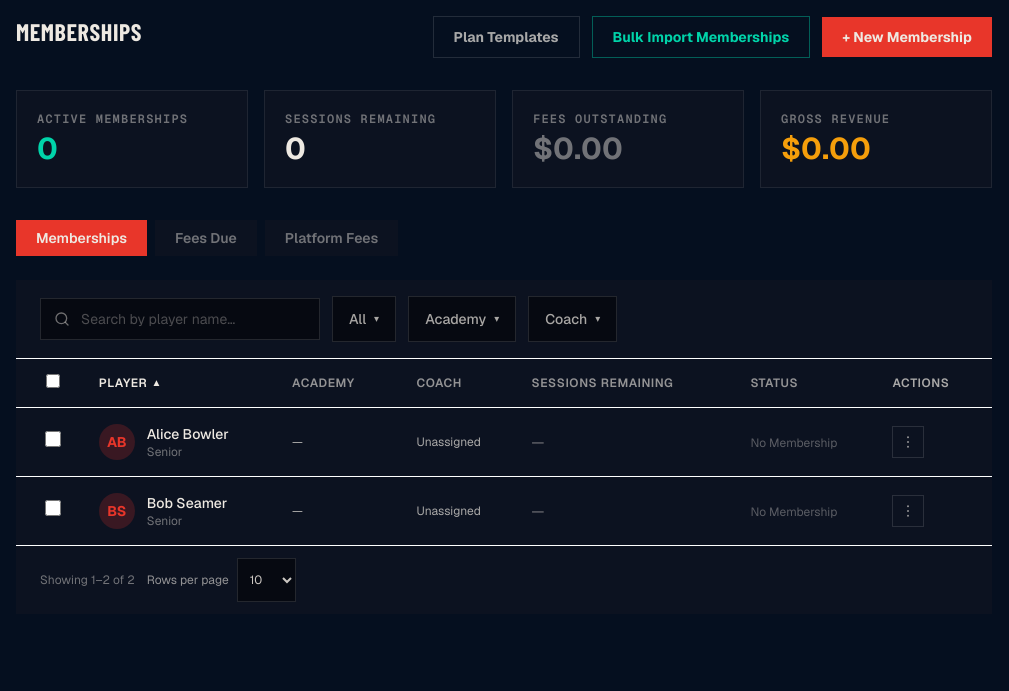
Test case: SessionPacksClient › select-all selects every row currently matching the filters/search
The width and height of the screenshot is (1009, 691).
Expected: the text "Alice Bowler" is shown, [147,424,229,444]
Click the checkbox titled "Select all" at (53, 381), box [46,374,60,388]
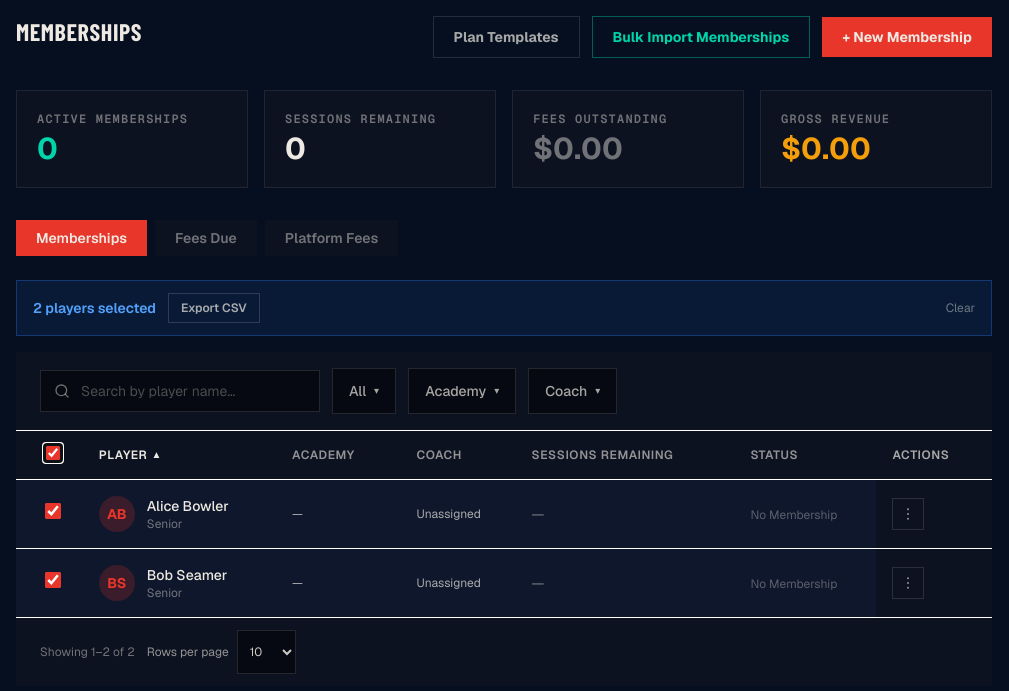
Expected: the text "2 players selected" is shown, [33,298,156,318]
Click the checkbox titled "Select all" at (53, 453), box [46,446,60,460]
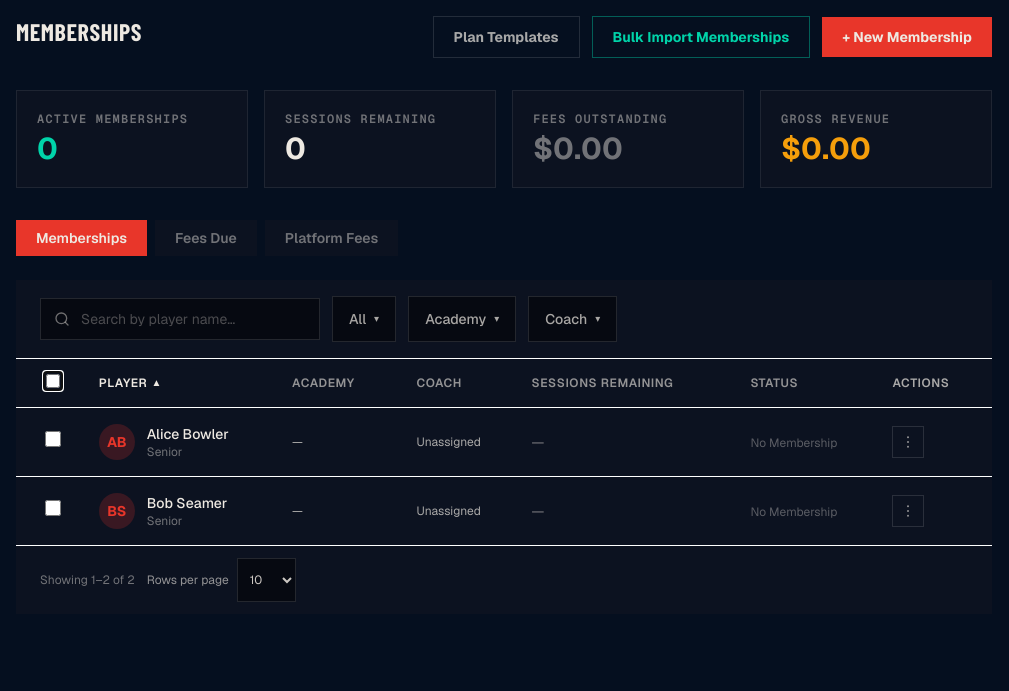
Expected: the text "selected" is gone
